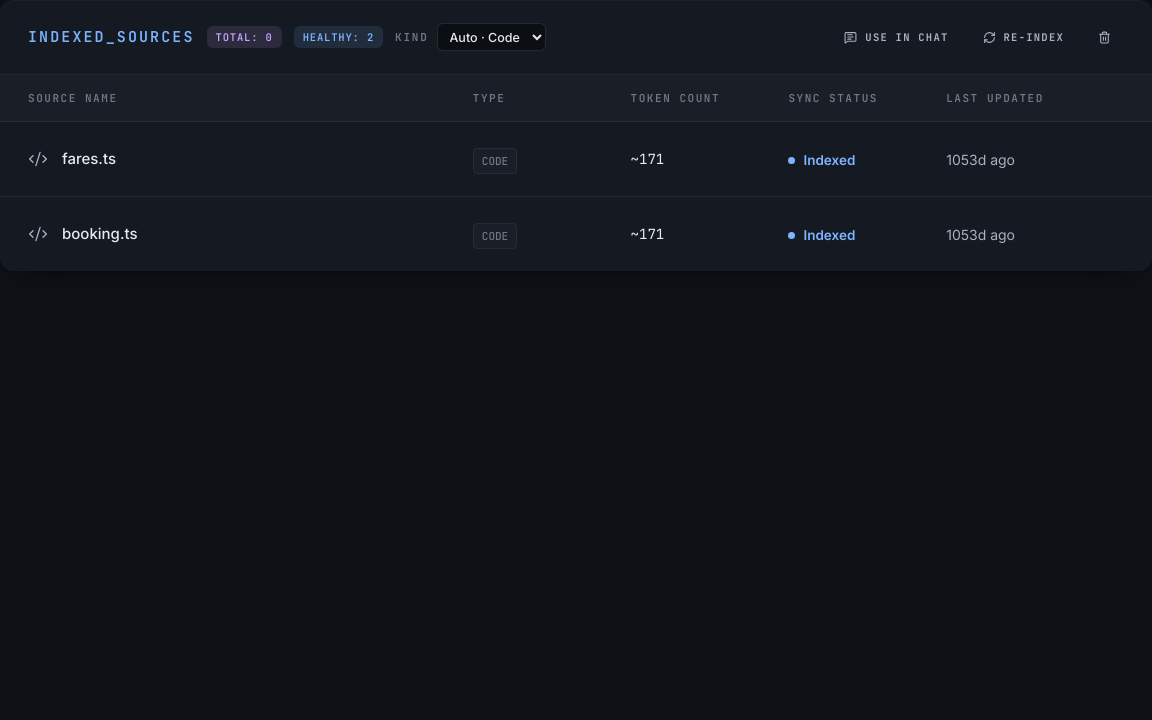
Test: blast radius › never reads an unindexed file as “nothing depends on it”
Click the button with aria-label "View fares.ts": (72, 159) [28, 148, 116, 170]
(page scrolled)
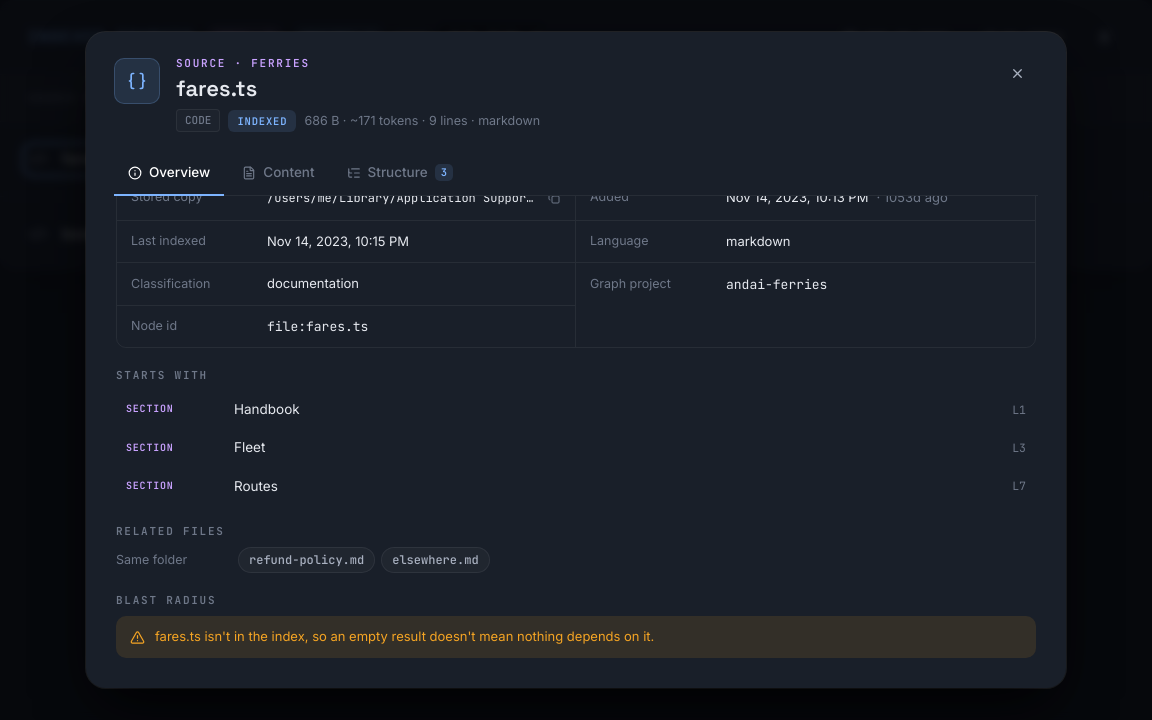
Now the text "fares.ts isn't in the index" is shown, box [155, 628, 654, 644]
